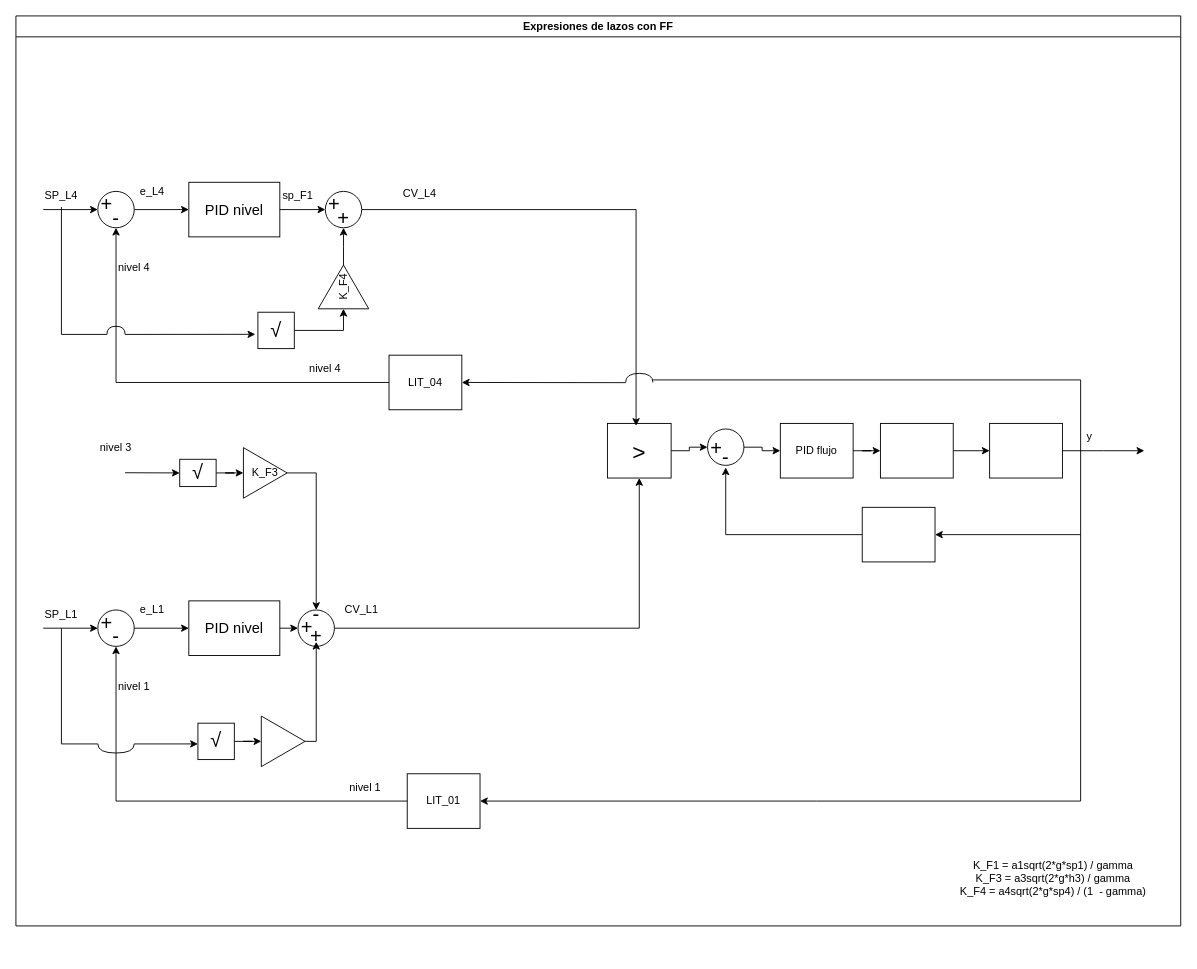
Image size: 1197x969. Some labels were removed from this diagram. Each missing label, with the box of its shape:
Actuador: (880, 423, 953, 478)
FIT_01: (861, 506, 935, 562)
K_F1: (260, 715, 305, 767)
Planta: (989, 423, 1062, 478)
